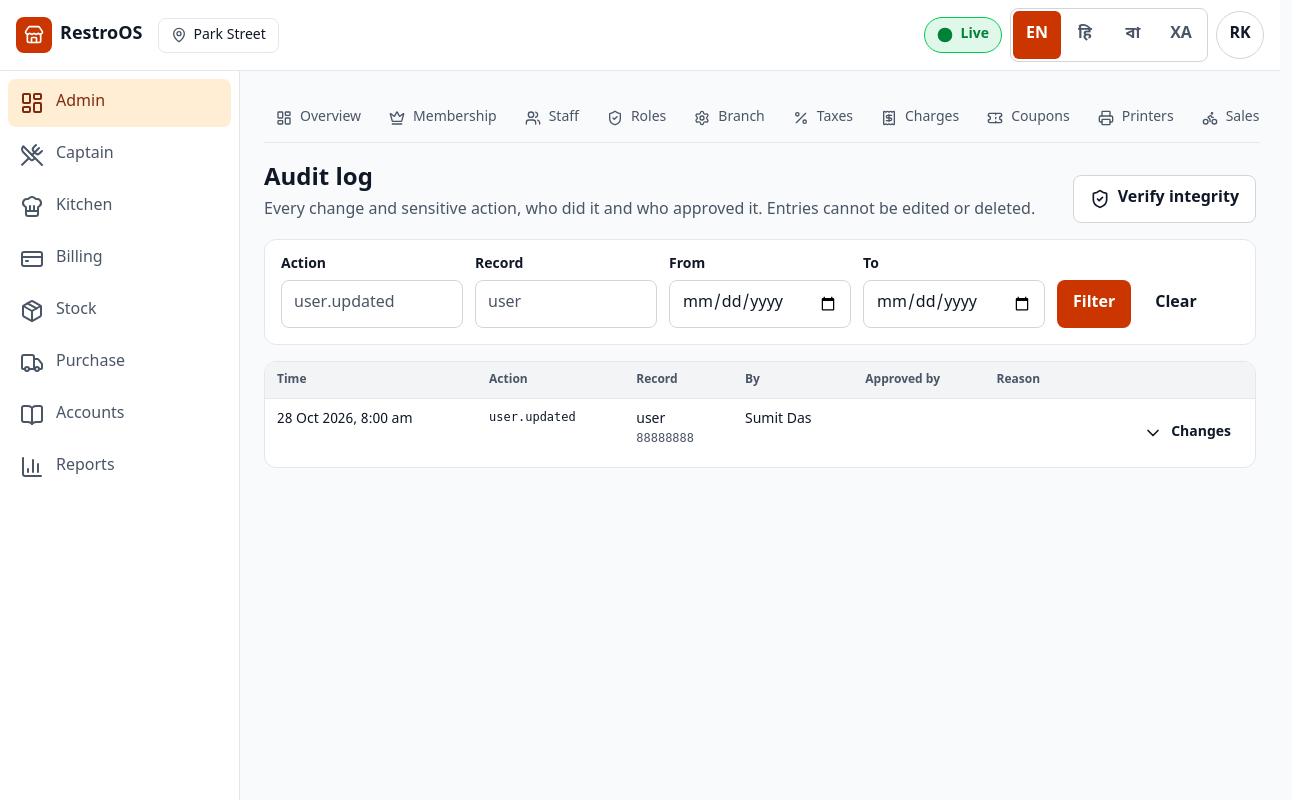
Audit log › shows a broken chain prominently and highlights the row
Click the button "Changes" at [1187, 433], box [1131, 409, 1243, 457]
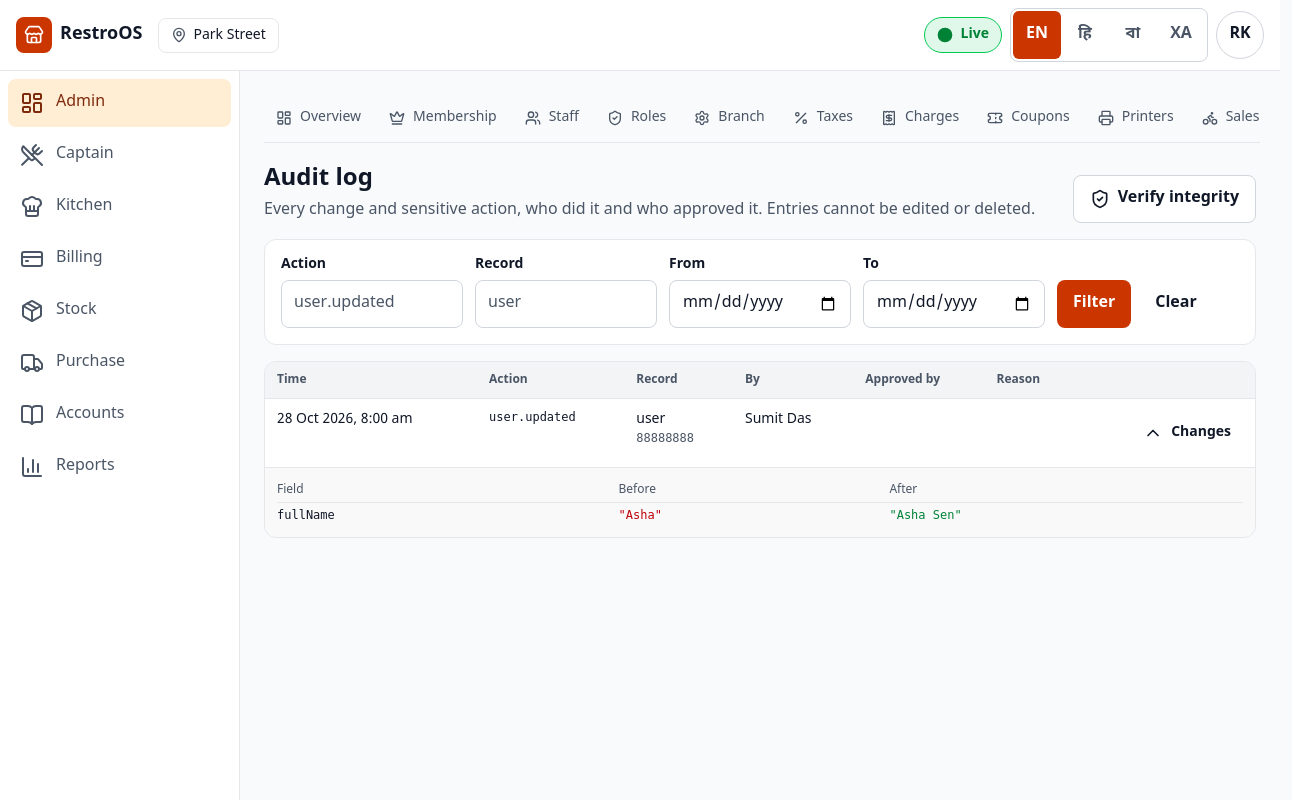
Expected: the text "\"Asha Sen\"" is shown, [889, 502, 1243, 527]
Click the button "Verify integrity" at [1164, 199], box [1073, 175, 1256, 223]
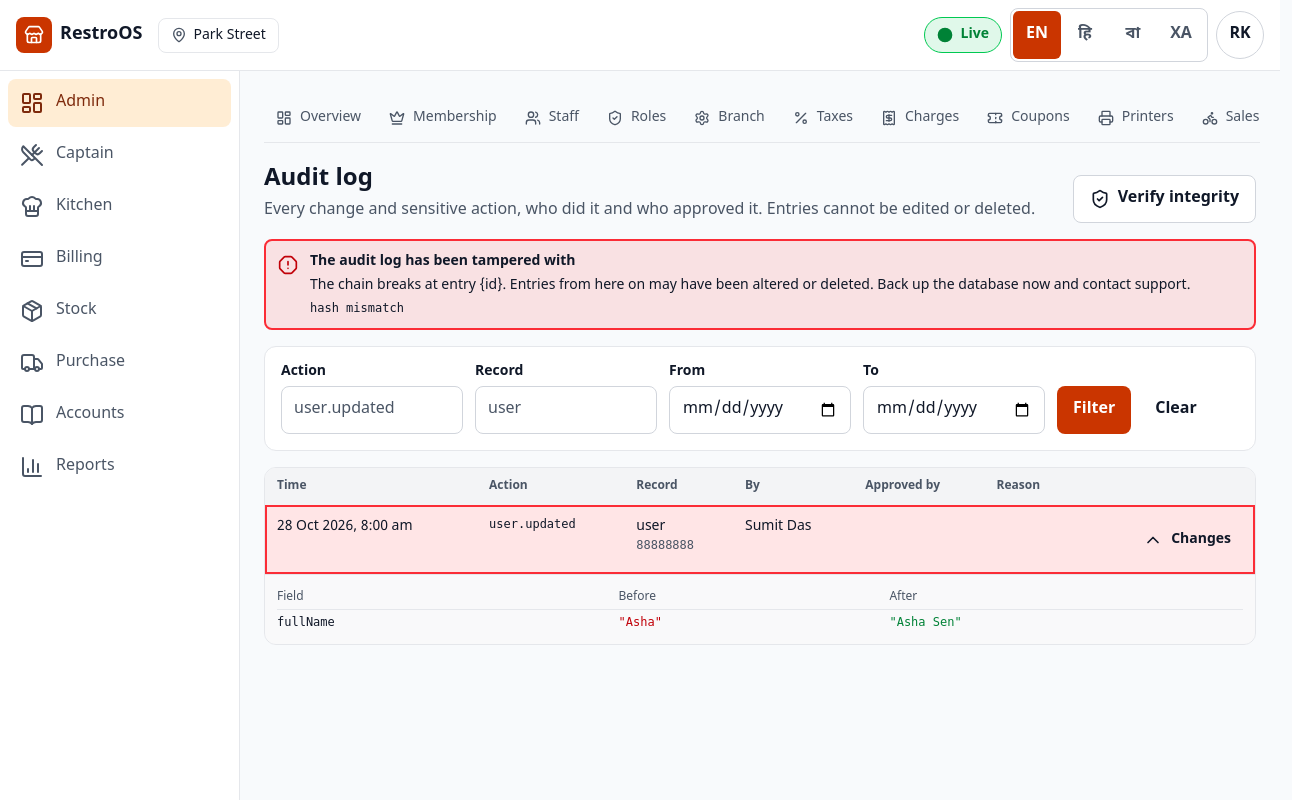
Expected: the text "The audit log has been tampered with" is shown, [310, 252, 576, 271]
